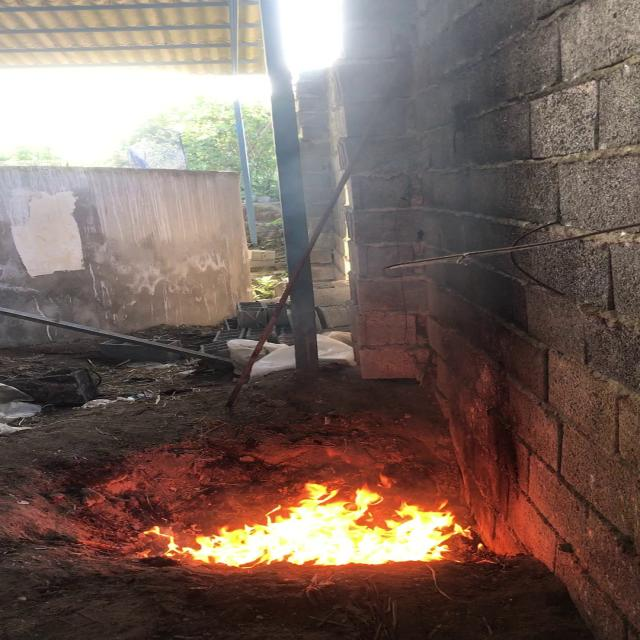fire: (156, 472, 450, 569)
